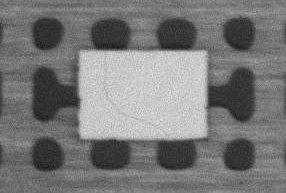DIE_CRACK: (102, 57, 168, 134)
